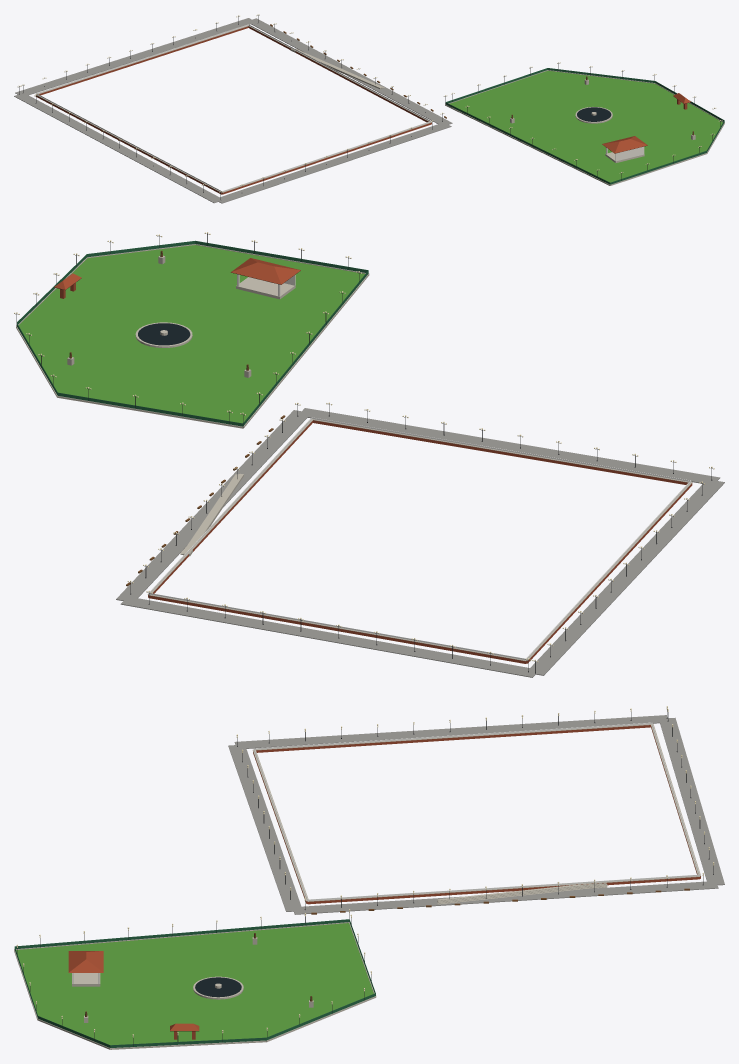
The model's file is mananchira.glb.
3 views of the same model, one above another, from view 1: azimuth 30°, elevation 25°; view 2: azimuth 150°, elevation 25°; view 3: azimuth 270°, elevation 25° (orthographic). The views are drawn at different scales.
Visible parts, largest first — view 1: mananchira; view 2: mananchira; view 3: mananchira.
Boxes of the visible parts, x1=… form: mananchira: x1=14, y1=14, x2=724, y2=203; mananchira: x1=14, y1=232, x2=724, y2=677; mananchira: x1=14, y1=706, x2=724, y2=1049.
Bounding box in the file's own units: 281 × 8.7 × 253.
